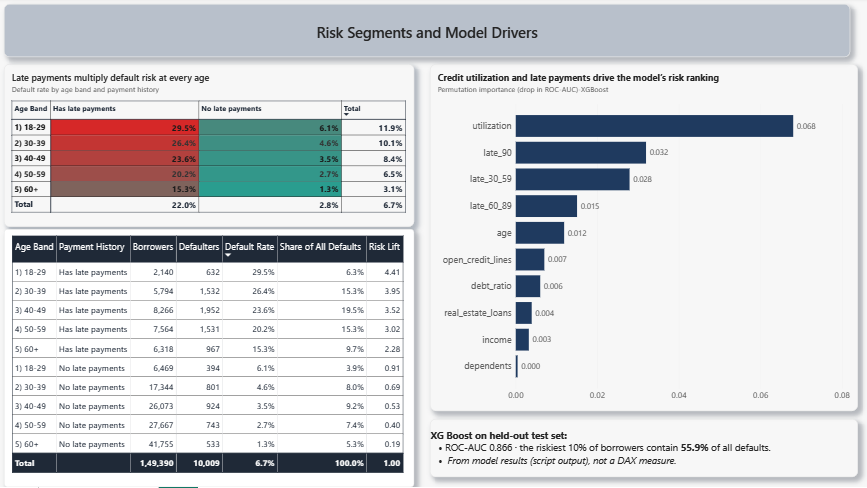

This screenshot's page, from the dashboard's own definition file:
{"tool":"powerbi","page":{"name":"Risk Segments","canvas":[1920,1080],"ordinal":1},"visuals":[{"type":"pivotTable","title":"Late payments multiply default risk at every age","fields":{"Columns":["loans_clean.Payment History"],"Rows":["loans_clean.Age Band"],"Values":["loans_clean.Default Rate"]},"box":[17.6,147.7,903.7,359.3],"z":0},{"type":"textbox","box":[17.6,15.4,1864.7,116.8],"z":1},{"type":"tableEx","title":"Risk Segments Ranked","fields":{"Values":["loans_clean.Age Band","loans_clean.Payment History","loans_clean.Borrowers","loans_clean.Defaulters","loans_clean.Default Rate","loans_clean.Share of All Defaults","loans_clean.Risk Lift"]},"box":[17.6,511.3,903.7,568.7],"z":2},{"type":"clusteredBarChart","title":"Credit utilization and late payments drive the model’s risk ranking","fields":{"Category":["feature_importance.feature"],"Y":["Sum(feature_importance.importance_auc_drop)"]},"box":[956.6,147.7,943.3,764.8],"z":3},{"type":"textbox","box":[956.6,930.1,943.3,127.8],"z":4}]}

Visuals, with their boxes in screenshot pixels (x1, y1, x2, y2), scaled from the page's 1920x1080 canvas onto the 867x488 screenshot:
"Late payments multiply default risk at every age" pivotTable: l=8, t=67, r=416, b=229
textbox: l=8, t=7, r=850, b=60
"Risk Segments Ranked" tableEx: l=8, t=231, r=416, b=487
"Credit utilization and late payments drive the model’s risk ranking" clusteredBarChart: l=432, t=67, r=858, b=412
textbox: l=432, t=420, r=858, b=478
